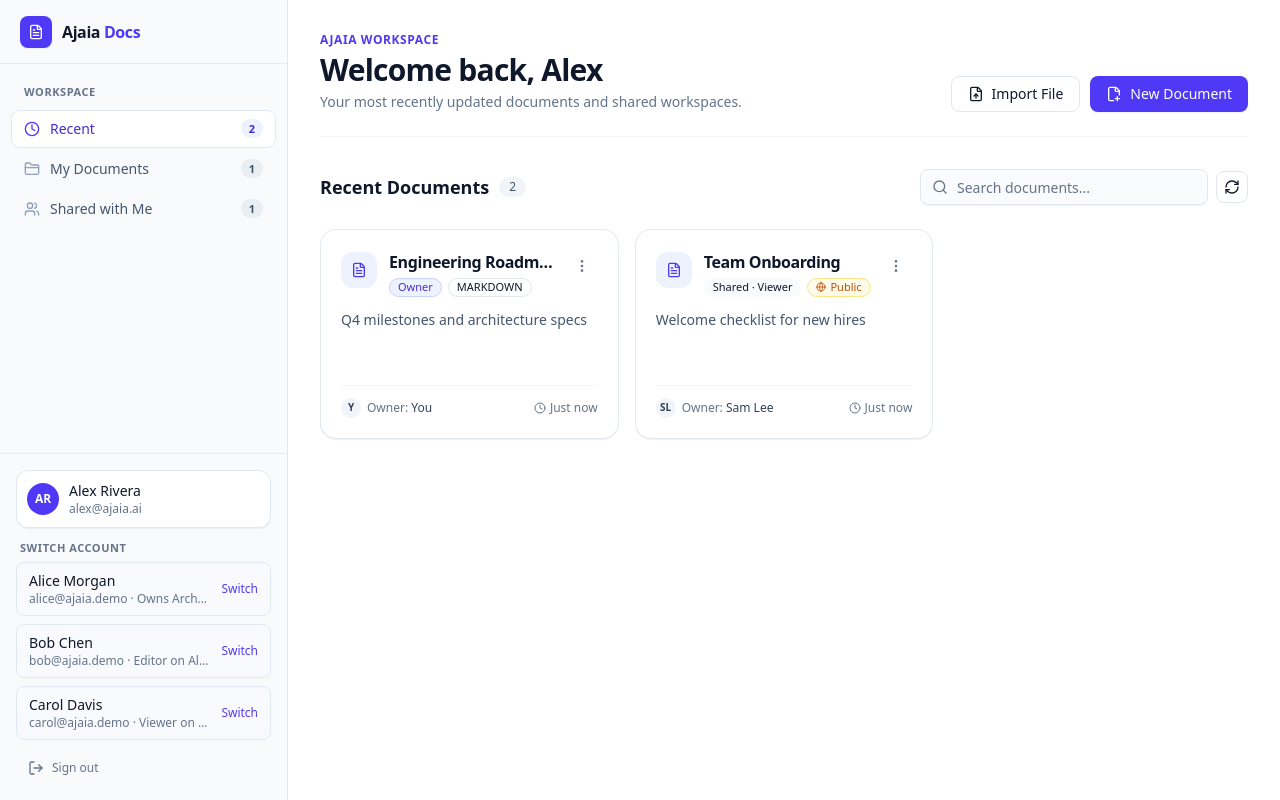
Test: Ajaia Docs Dashboard & Dialogs › renders welcome heading, sidebar links, owner info, and filters by search
Check: the heading "Welcome back, Alex" is shown, box [320,49,603,90]
Check: the button "My Documents 1" is shown, box [12,150,275,186]
Type "Roadmap" into the search field labelled "Search documents" at (1064, 187), box [920,169,1208,205]
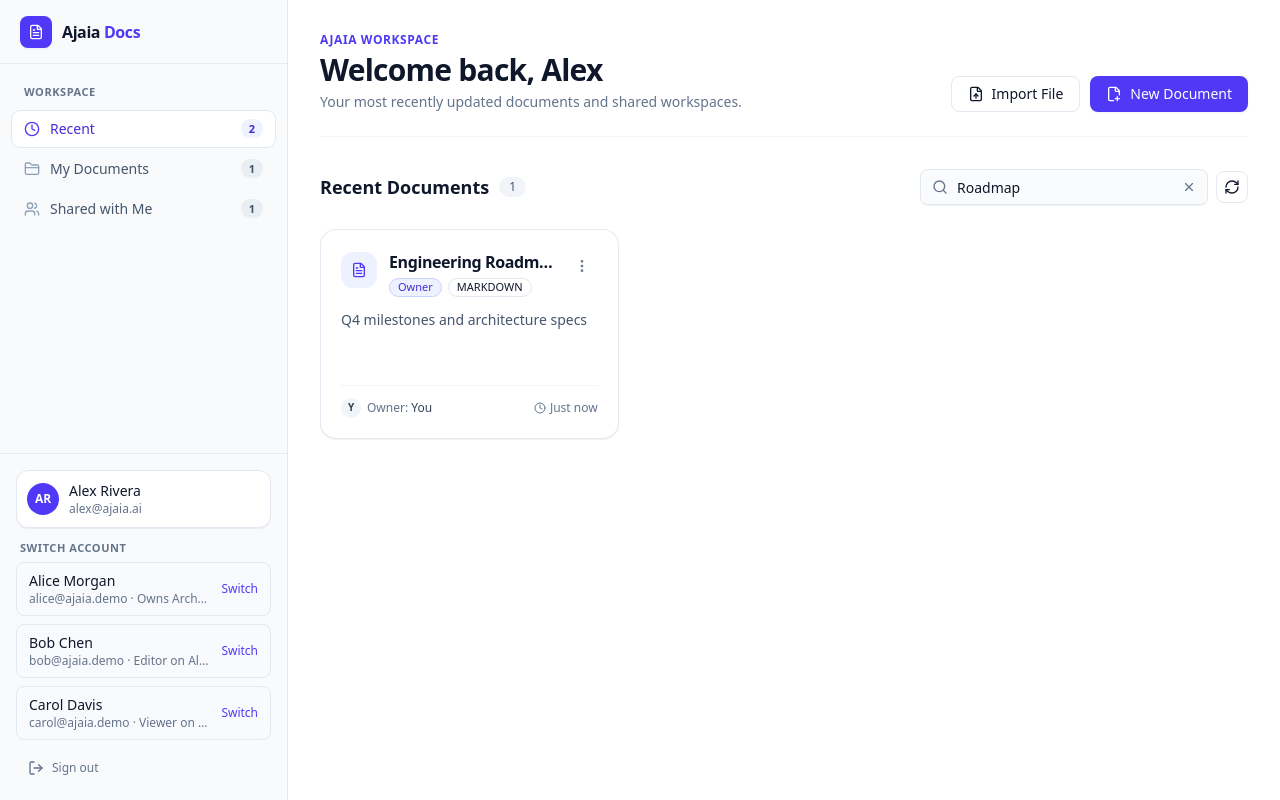
Check: the heading "Engineering Roadmap" is shown, box [389,250,558,274]
Check: the link "Team Onboarding" is gone
